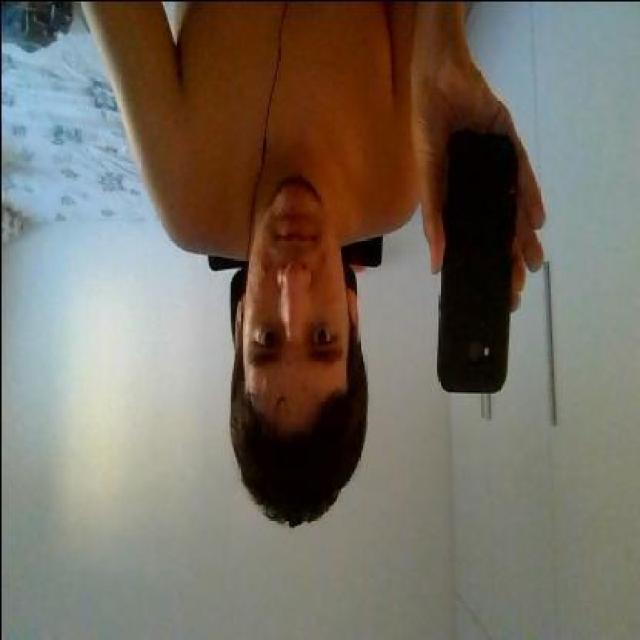cellphone: (434, 138, 517, 397)
